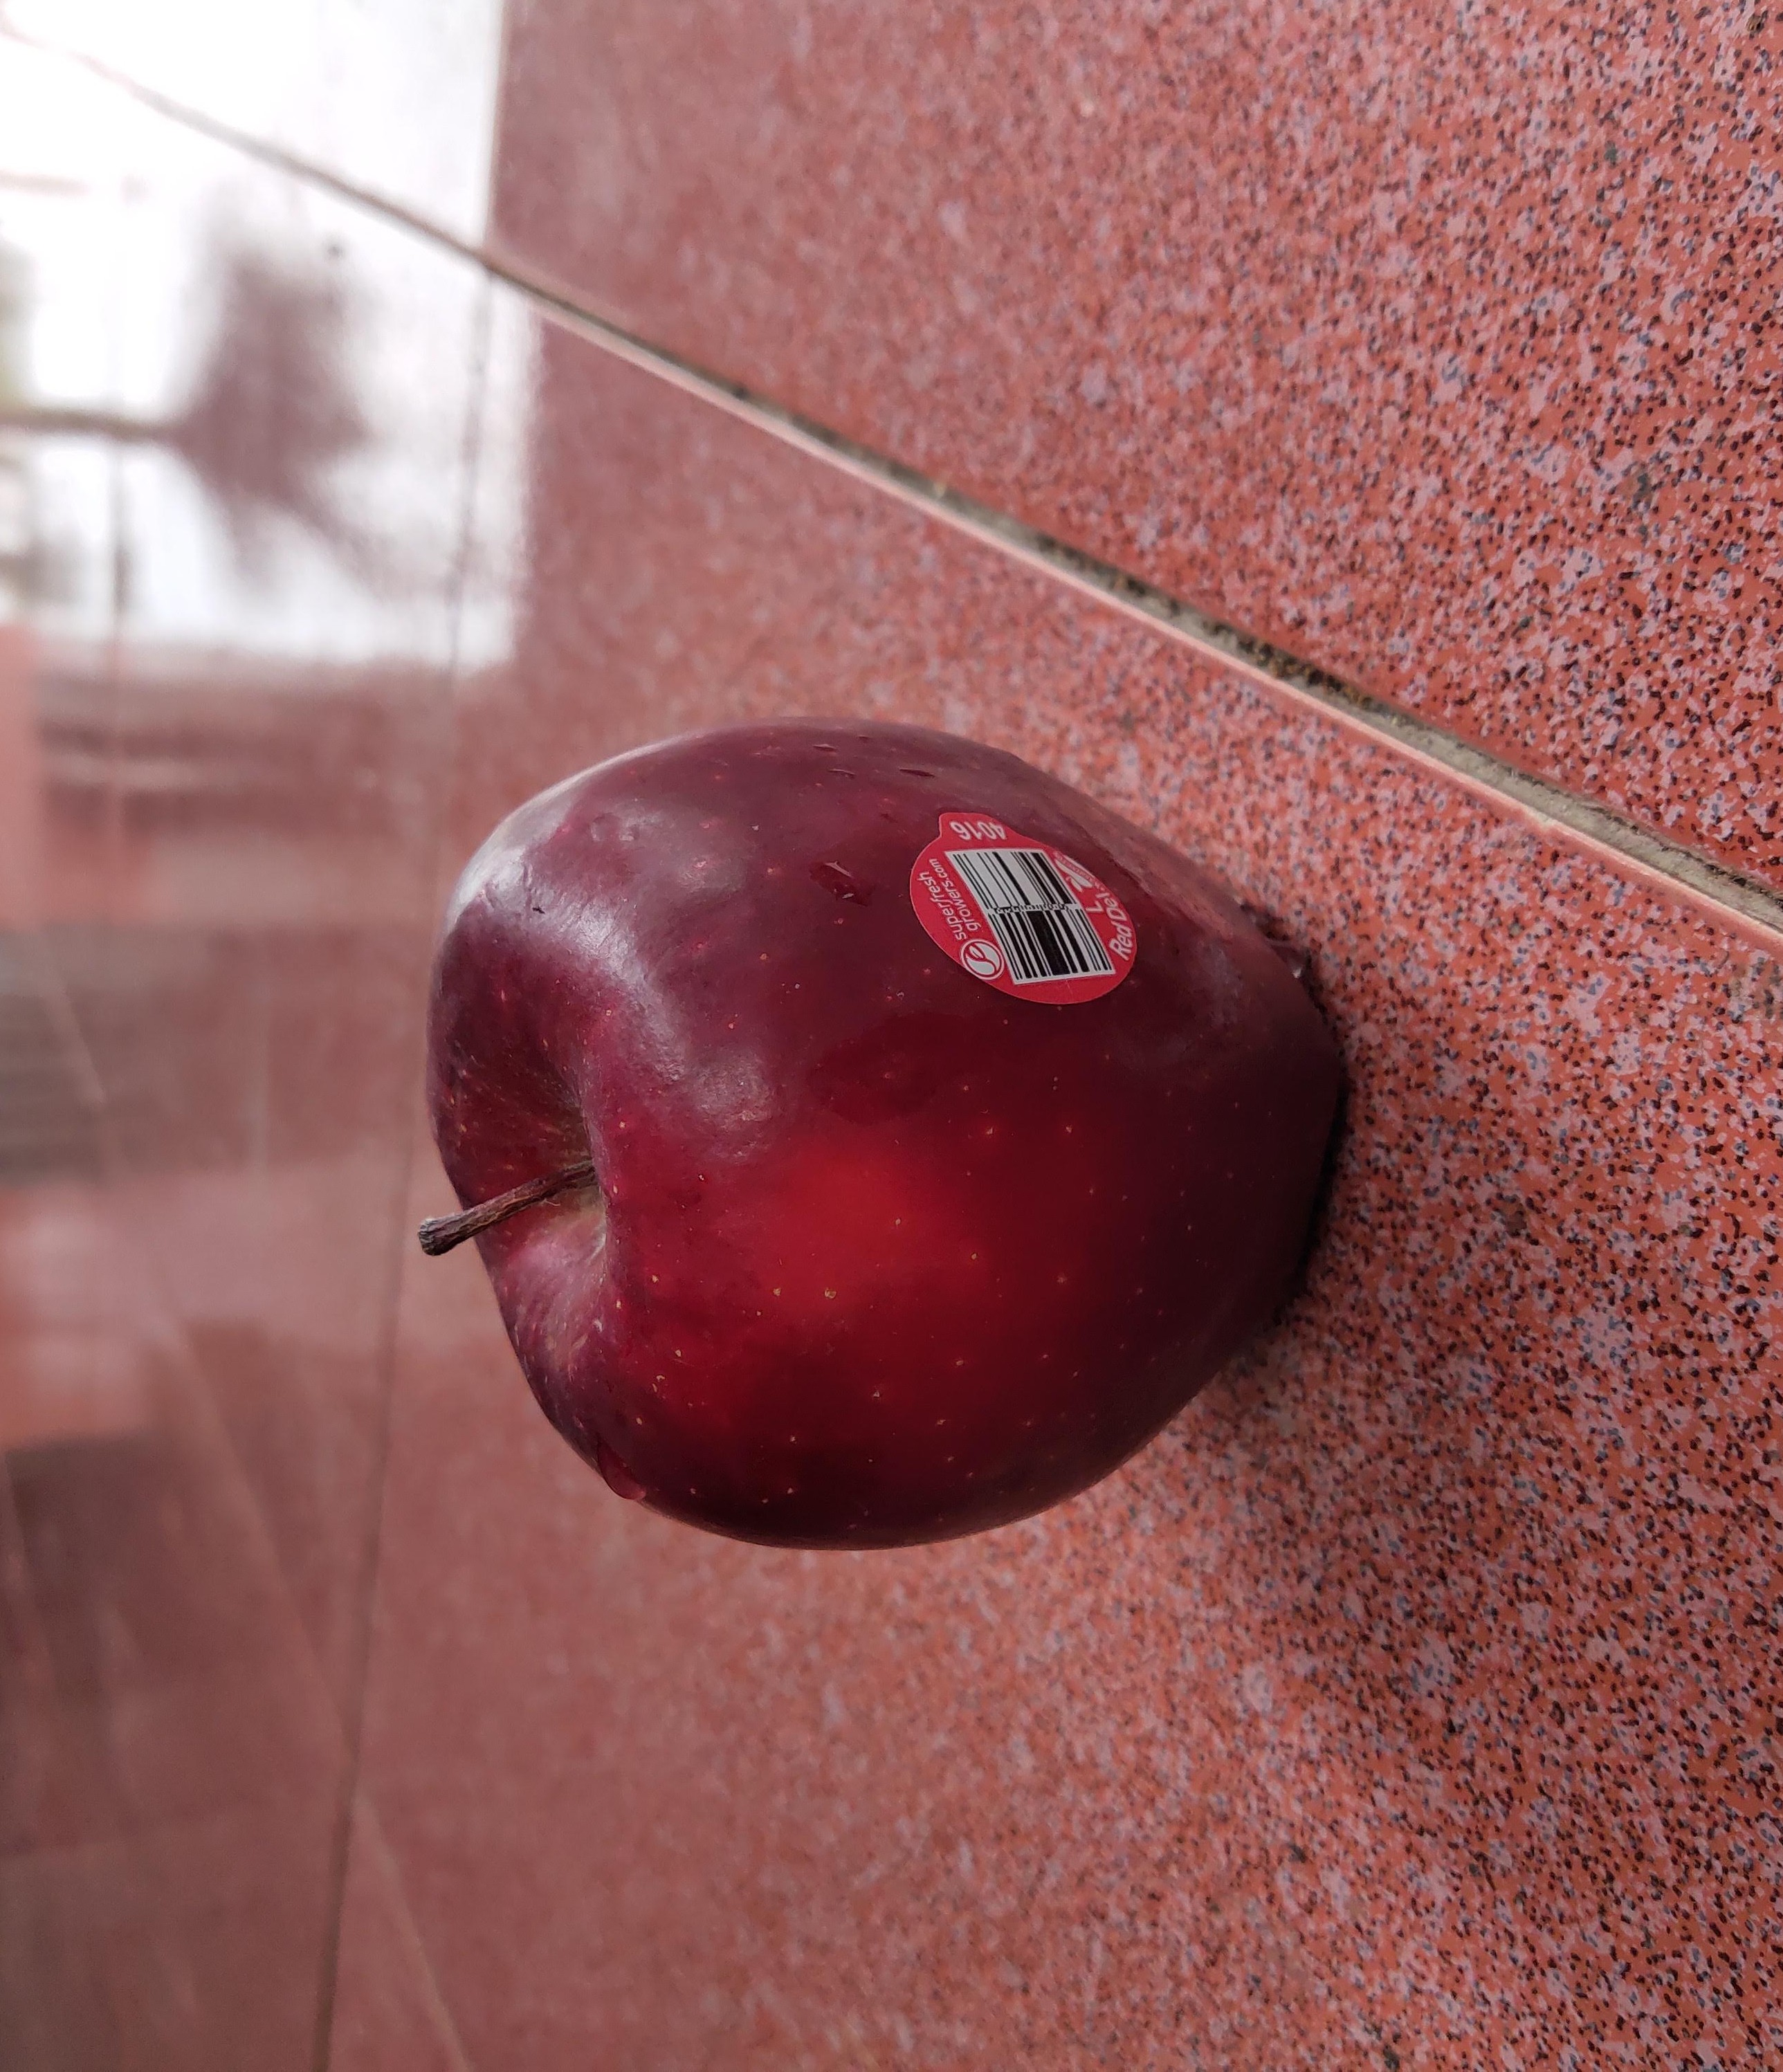apple: (405, 710, 1358, 1559)
